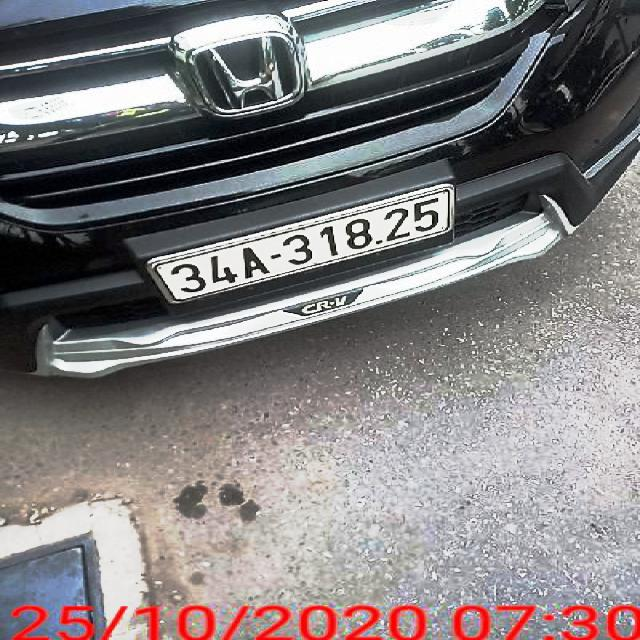license_plate: (157, 192, 454, 302)
